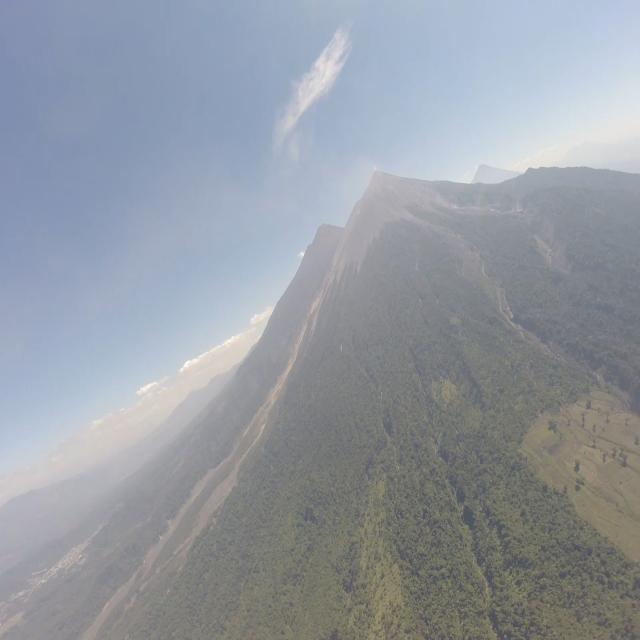Summit: (362, 164, 394, 192)
